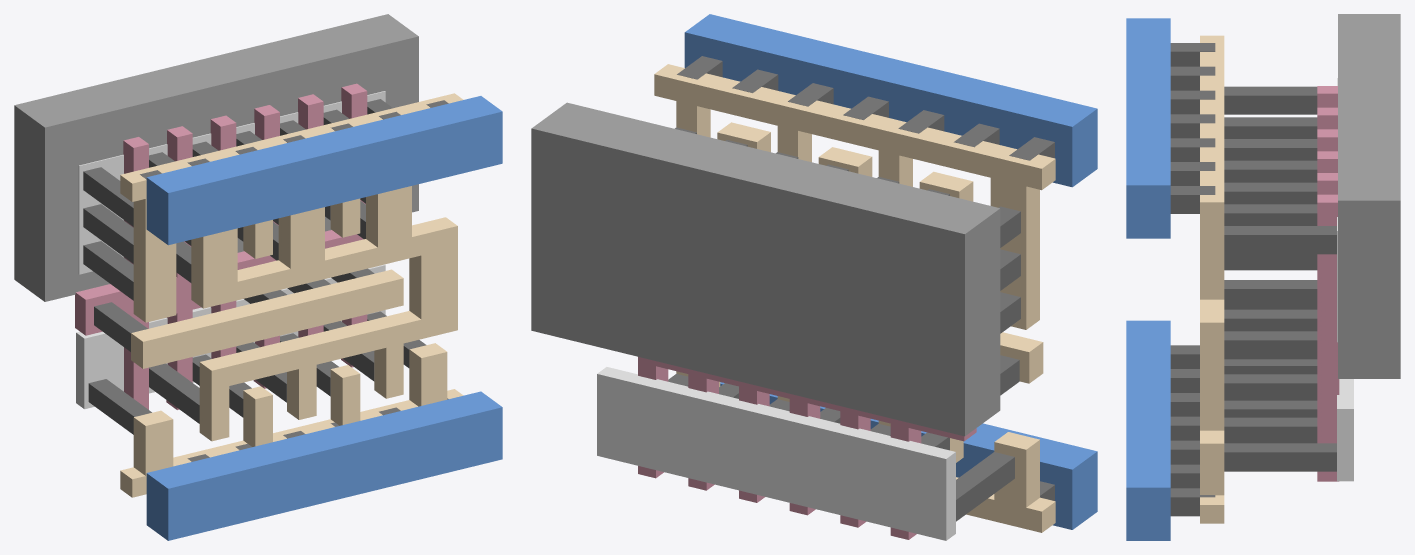
Rendered from sky130_fd_sc_hd__inv_6.gds.gltf.
3 renders of one model, left to right at view 1: azimuth 30°, elevation 25°; view 2: azimuth 150°, elevation 25°; view 3: azimuth 270°, elevation 25°, orthographic. The views are drawn at different scales.
Visible parts, largest first — view 1: sky130_fd_sc_hd__inv_6_li1, sky130_fd_sc_hd__inv_6_met1, sky130_fd_sc_hd__inv_6_nwell, sky130_fd_sc_hd__inv_6_licon, sky130_fd_sc_hd__inv_6_poly, sky130_fd_sc_hd__inv_6_diff, sky130_fd_sc_hd__inv_6_mcon; view 2: sky130_fd_sc_hd__inv_6_nwell, sky130_fd_sc_hd__inv_6_diff, sky130_fd_sc_hd__inv_6_li1, sky130_fd_sc_hd__inv_6_met1, sky130_fd_sc_hd__inv_6_licon, sky130_fd_sc_hd__inv_6_poly, sky130_fd_sc_hd__inv_6_mcon; view 3: sky130_fd_sc_hd__inv_6_licon, sky130_fd_sc_hd__inv_6_nwell, sky130_fd_sc_hd__inv_6_met1, sky130_fd_sc_hd__inv_6_mcon, sky130_fd_sc_hd__inv_6_li1, sky130_fd_sc_hd__inv_6_poly, sky130_fd_sc_hd__inv_6_diff.
Boxes of the visible parts, bbox=[...] form: sky130_fd_sc_hd__inv_6_li1: bbox=[120, 93, 463, 497]; sky130_fd_sc_hd__inv_6_met1: bbox=[146, 96, 502, 540]; sky130_fd_sc_hd__inv_6_nwell: bbox=[14, 14, 418, 301]; sky130_fd_sc_hd__inv_6_licon: bbox=[83, 99, 426, 434]; sky130_fd_sc_hd__inv_6_poly: bbox=[75, 83, 367, 409]; sky130_fd_sc_hd__inv_6_diff: bbox=[76, 91, 385, 409]; sky130_fd_sc_hd__inv_6_mcon: bbox=[140, 100, 448, 461]; sky130_fd_sc_hd__inv_6_nwell: bbox=[531, 102, 1000, 436]; sky130_fd_sc_hd__inv_6_diff: bbox=[597, 367, 955, 540]; sky130_fd_sc_hd__inv_6_li1: bbox=[654, 64, 1055, 532]; sky130_fd_sc_hd__inv_6_met1: bbox=[684, 14, 1097, 529]; sky130_fd_sc_hd__inv_6_licon: bbox=[668, 127, 1020, 521]; sky130_fd_sc_hd__inv_6_poly: bbox=[638, 357, 976, 539]; sky130_fd_sc_hd__inv_6_mcon: bbox=[677, 56, 1054, 500]; sky130_fd_sc_hd__inv_6_licon: bbox=[1224, 86, 1336, 471]; sky130_fd_sc_hd__inv_6_nwell: bbox=[1338, 14, 1400, 378]; sky130_fd_sc_hd__inv_6_met1: bbox=[1126, 18, 1170, 540]; sky130_fd_sc_hd__inv_6_mcon: bbox=[1170, 43, 1215, 516]; sky130_fd_sc_hd__inv_6_li1: bbox=[1200, 35, 1224, 523]; sky130_fd_sc_hd__inv_6_poly: bbox=[1317, 86, 1339, 481]; sky130_fd_sc_hd__inv_6_diff: bbox=[1337, 78, 1353, 481].
Bounding box in the file's own units: 3.6 × 3.2 × 2.24.
